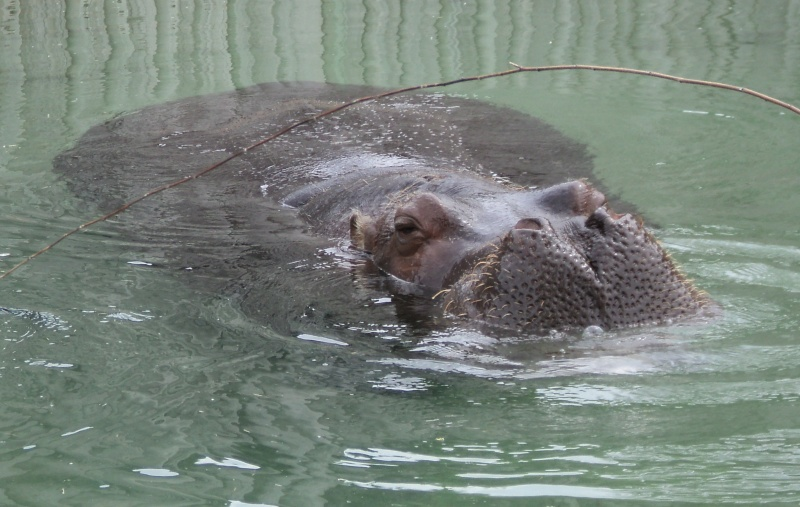hipopotamo: (161, 86, 713, 343)
